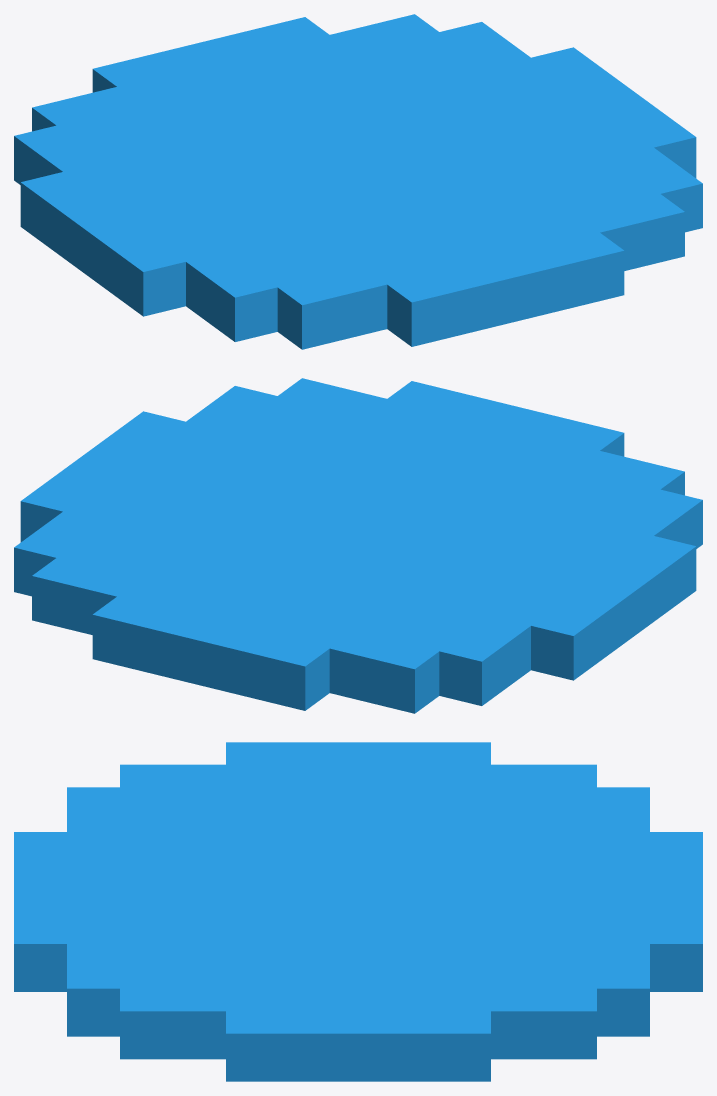
File: splash_b.obj
3 renders of one model, top to bottom at view 1: azimuth 30°, elevation 25°; view 2: azimuth 150°, elevation 25°; view 3: azimuth 270°, elevation 25°, orthographic. The views are drawn at different scales.
Bounding box in the file's own units: 1.3 × 0.1 × 1.3.
Materials: 1 (1 with a texture image).
